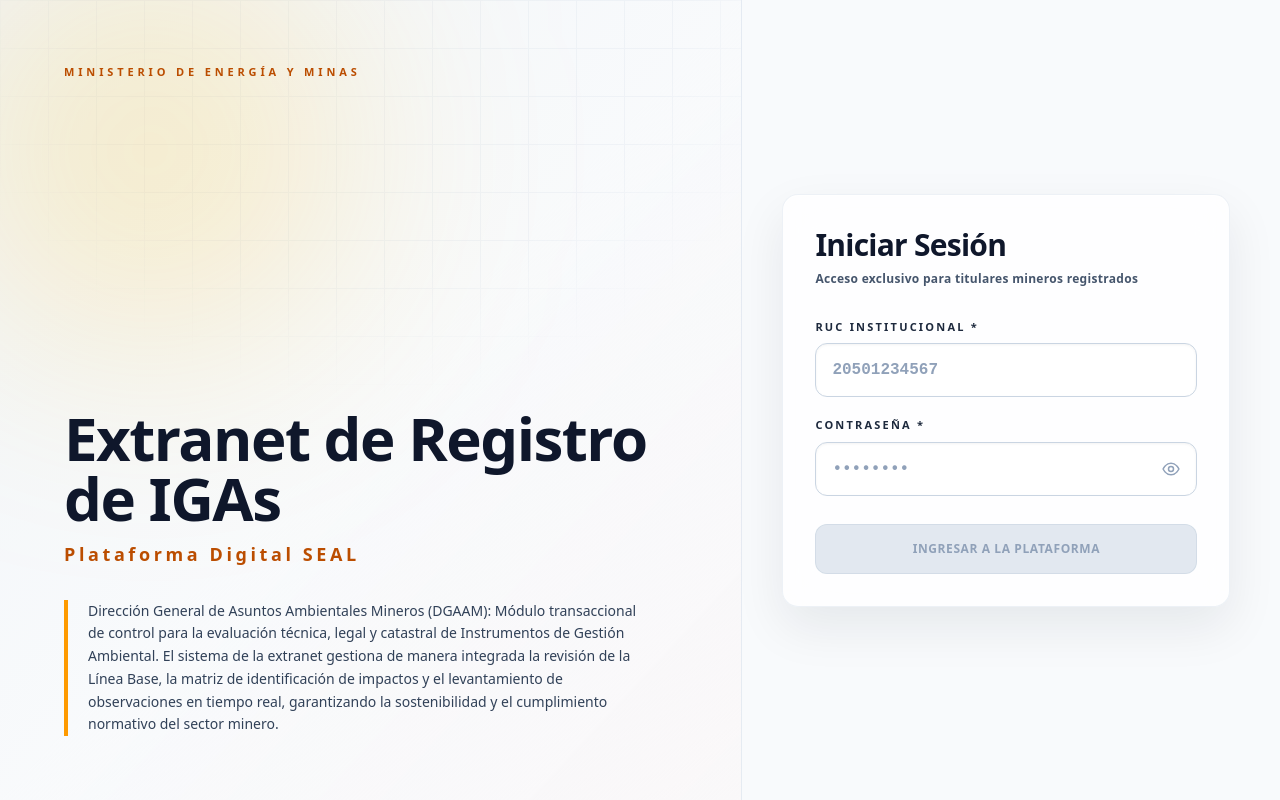
Test: LoginComponent › Máscara del RUC › descarta letras, espacios y símbolos en vivo
The image size is (1280, 800).
Type "a2b0c5d0e1f2g3h4i5j6k7" into the field with id "ruc" at (1006, 370), box [815,343,1197,397]
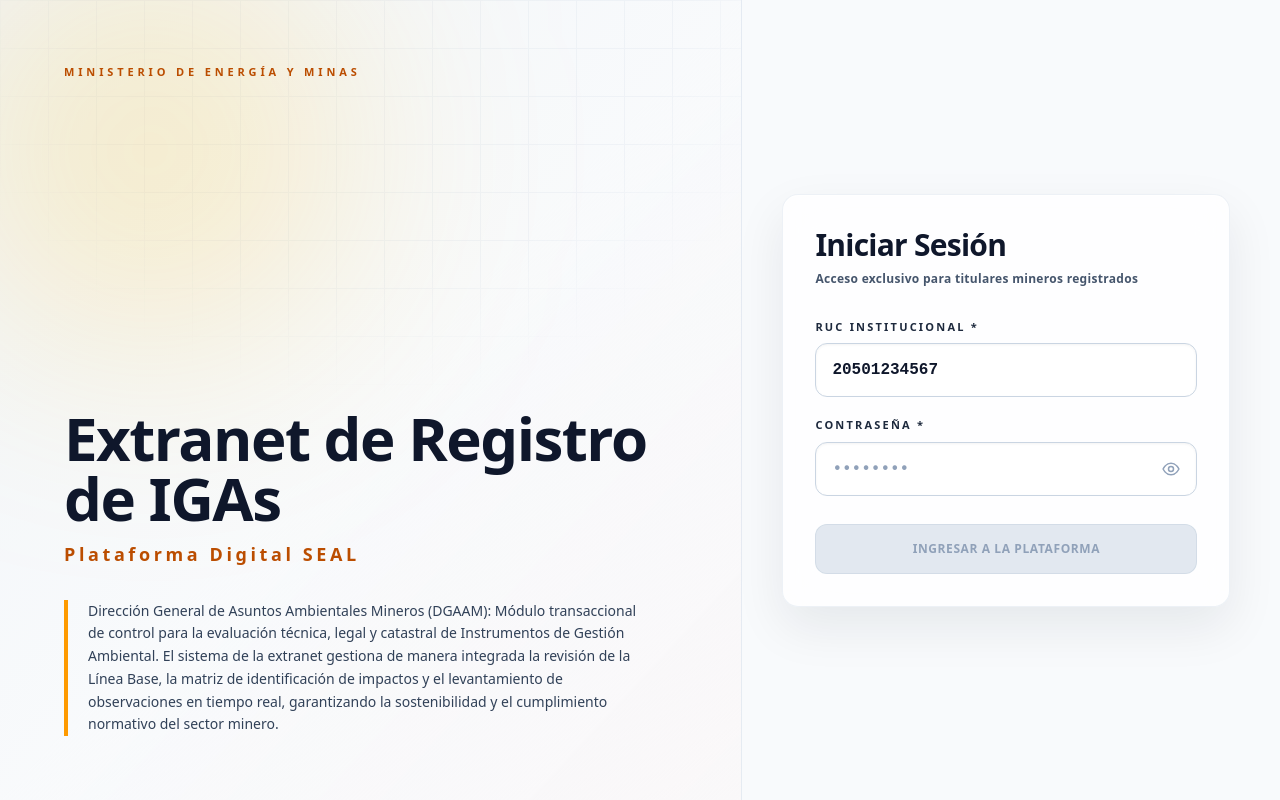
Now the field with id "ruc" holds "20501234567", box [815,343,1197,397]
